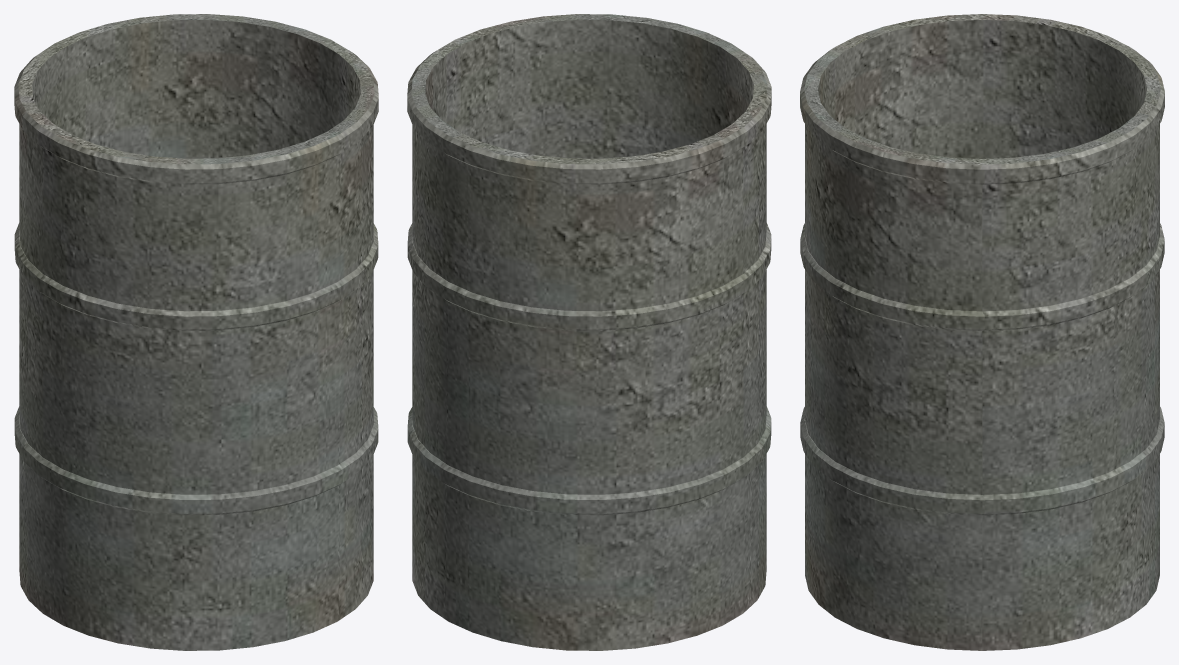
Rendered from Barrel.fbx.
The picture shows the model from 3 angles, left to right: view 1: azimuth 30°, elevation 25°; view 2: azimuth 150°, elevation 25°; view 3: azimuth 270°, elevation 25°; orthographic projection.
Parts seen in each view (by area): view 1: Barrel; view 2: Barrel; view 3: Barrel.
Part boxes in pixels (box(x1,y1,x2,y2)): Barrel: box(14, 14, 378, 650); Barrel: box(407, 14, 771, 650); Barrel: box(800, 14, 1164, 650).
Size of the model in its own units: 81.99 by 121 by 81.99.
1 material, 1 textured.
